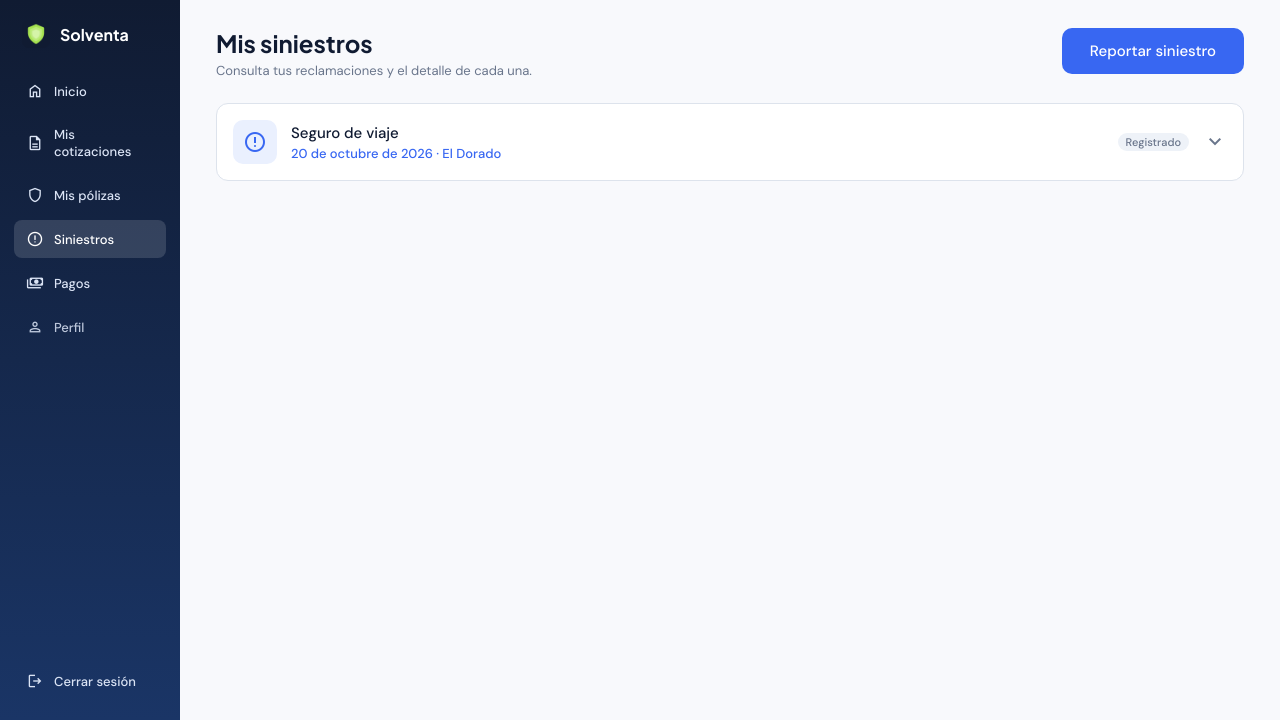
despliega el detalle del siniestro al hacer clic
Click the button "Seguro de viaje" at [255, 142], box [217,104,1243,180]
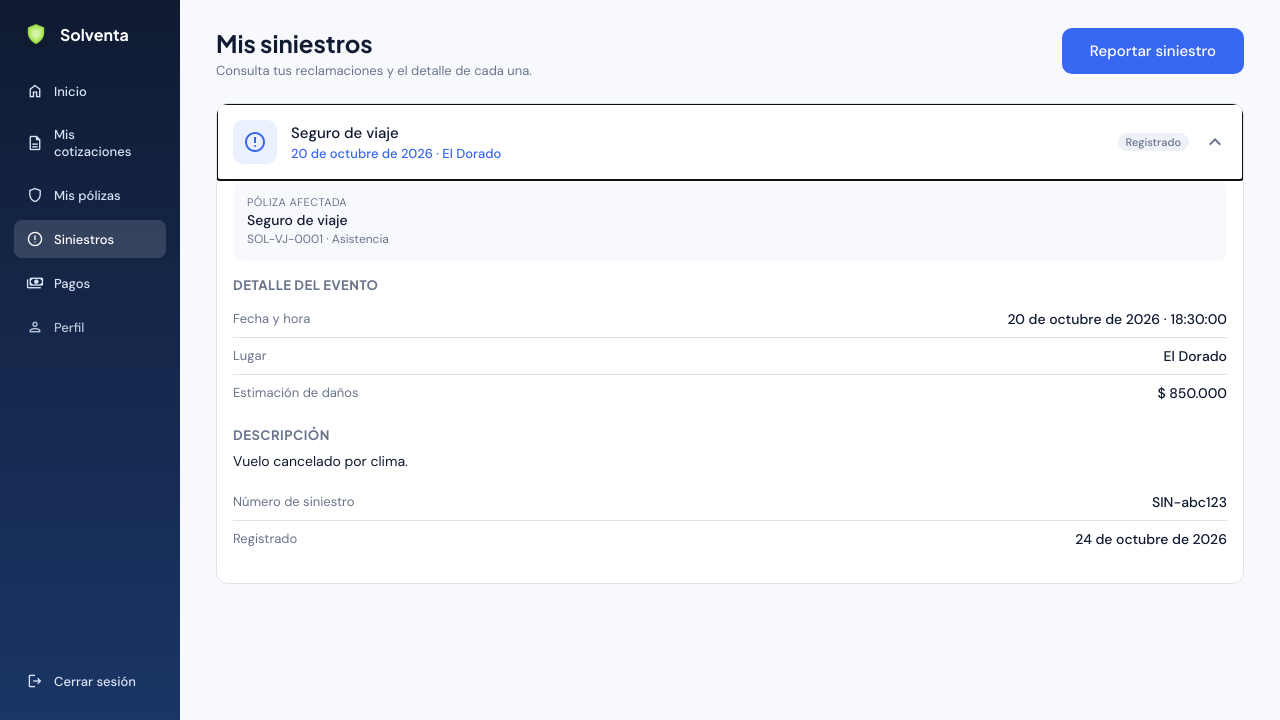
Now the text "Vuelo cancelado por clima." is shown, box [233,452,408,470]
Now the text "SIN-abc123" is shown, box [1152,493,1227,511]
Now the text "El Dorado" is shown, box [1164,347,1227,365]
